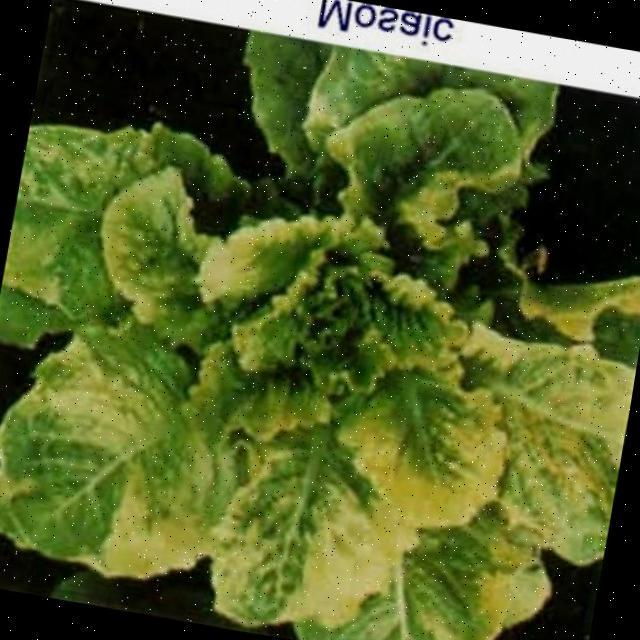Lettuce Mosaic Virus: (168, 223, 551, 600)
